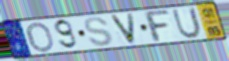9: (53, 19, 79, 51)
F: (141, 9, 172, 44)
O: (26, 21, 56, 53)
S: (83, 16, 115, 48)
U: (171, 6, 204, 40)
V: (108, 12, 138, 46)
